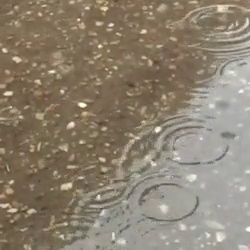drop: (124, 172, 199, 223), (155, 115, 230, 166), (24, 211, 110, 249), (73, 161, 131, 209), (51, 56, 72, 74), (1, 107, 21, 123)
